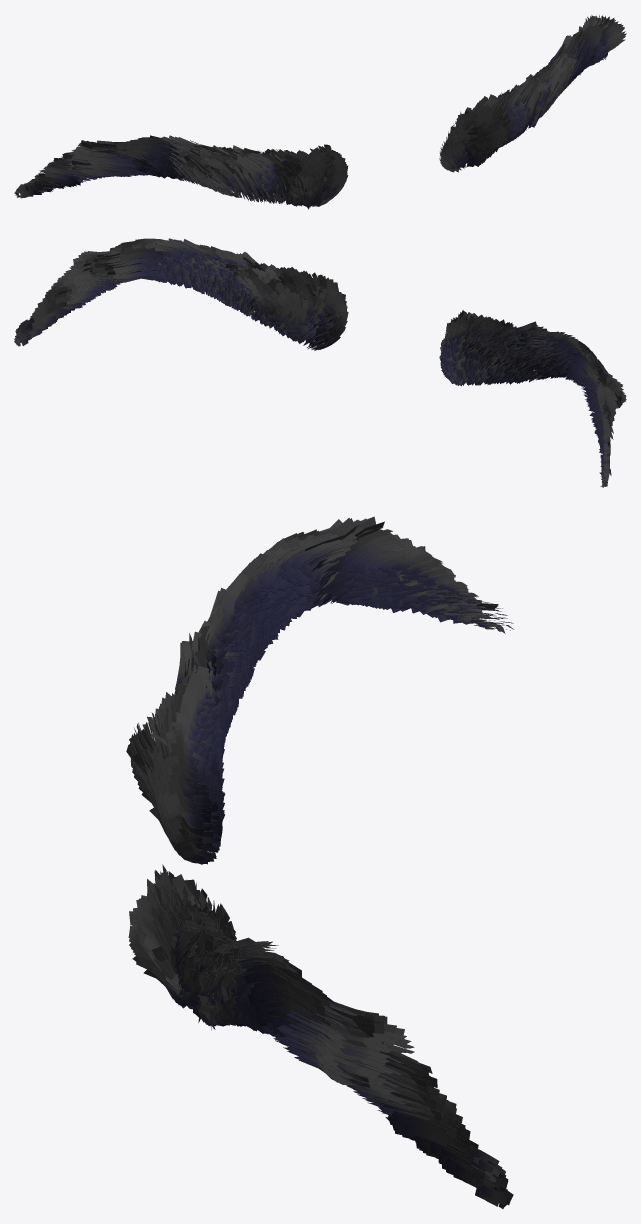
Rendered from eyebrowfbx.fbx.
The picture shows the model from 3 angles, top to bottom: view 1: azimuth 30°, elevation 25°; view 2: azimuth 150°, elevation 25°; view 3: azimuth 270°, elevation 25°; orthographic projection. The views are drawn at different scales.
Parts seen in each view (by area): view 1: Eyebrows; view 2: Eyebrows; view 3: Eyebrows.
Part boxes in pixels (x1=…): Eyebrows: x1=14, y1=15, x2=626, y2=209; Eyebrows: x1=14, y1=238, x2=626, y2=487; Eyebrows: x1=126, y1=516, x2=513, y2=1208.
Size of the model in its own units: 123 by 18.27 by 34.96.
